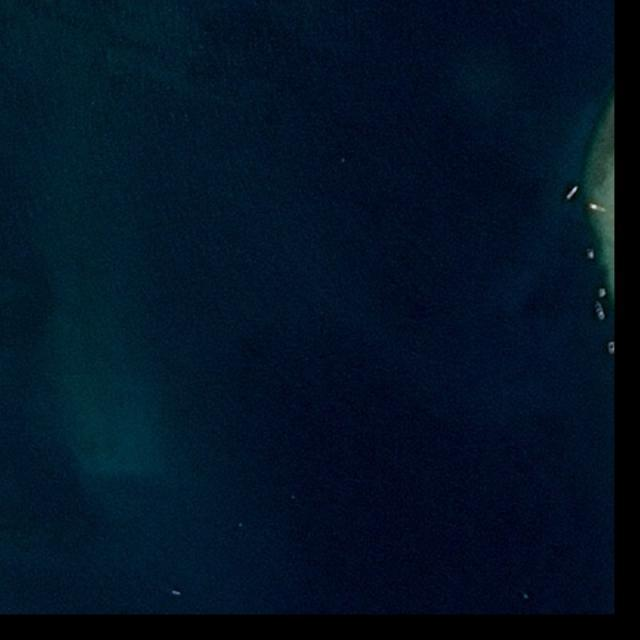ship: (591, 299, 607, 321), (587, 202, 608, 216), (566, 186, 579, 200), (587, 249, 594, 258), (600, 288, 606, 296), (173, 590, 182, 595)
